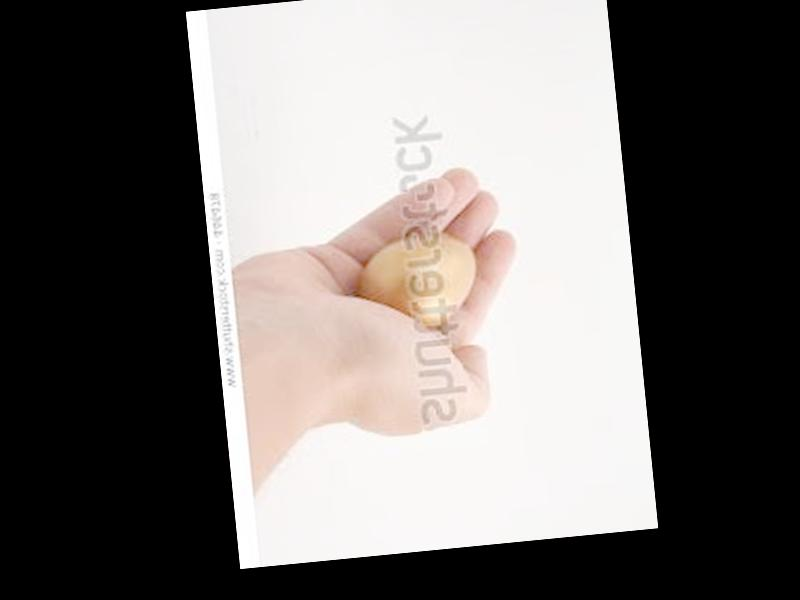Eggs: (358, 231, 480, 329)
